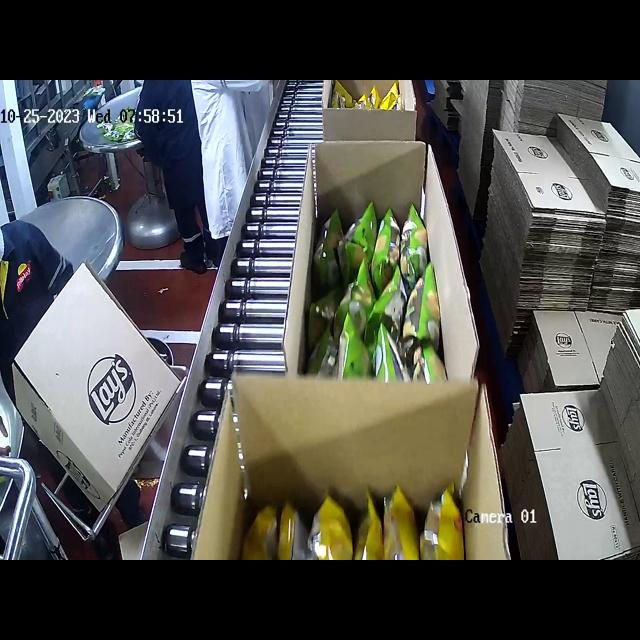salted: (255, 482, 449, 560)
yogurt: (318, 189, 430, 374)
